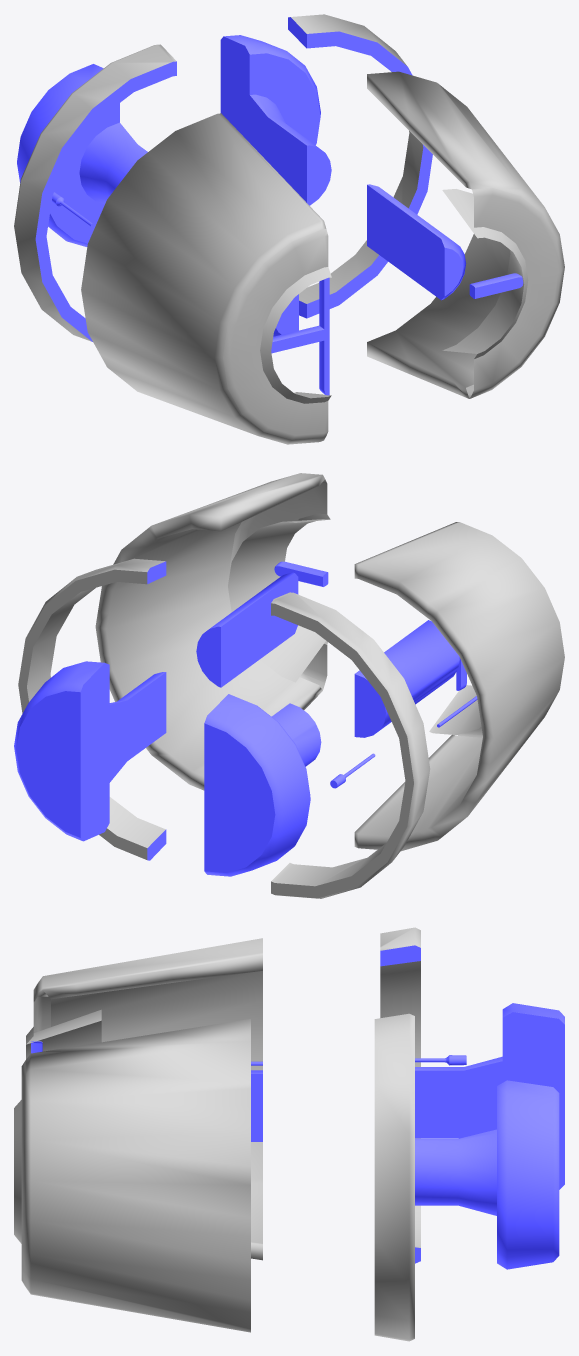
File: item_B.fbx
3 renders of one model, top to bottom at view 1: azimuth 30°, elevation 25°; view 2: azimuth 150°, elevation 25°; view 3: azimuth 270°, elevation 25°, orthographic. The views are drawn at different scales.
Visible parts, largest first — view 1: itemB_pCylinder119, itemB_pCylinder119.001, itemB_pCylinder119.003, itemB_pCylinder119.002; view 2: itemB_pCylinder119.001, itemB_pCylinder119, itemB_pCylinder119.003, itemB_pCylinder119.002; view 3: itemB_pCylinder119.001, itemB_pCylinder119.002, itemB_pCylinder119, itemB_pCylinder119.003.
Part boxes in pixels (x1,y1,x2,y2): itemB_pCylinder119: (81,113,331,444); itemB_pCylinder119.001: (367,71,564,398); itemB_pCylinder119.003: (14,44,176,341); itemB_pCylinder119.002: (220,14,432,318); itemB_pCylinder119.001: (95,473,330,790); itemB_pCylinder119: (354,522,564,851); itemB_pCylinder119.003: (204,592,430,898); itemB_pCylinder119.002: (14,558,166,860); itemB_pCylinder119.001: (14,1019,250,1332); itemB_pCylinder119.002: (374,1013,559,1341); itemB_pCylinder119: (26,938,262,1260); itemB_pCylinder119.003: (380,927,564,1263).
Size of the model in its own units: 262 by 183 by 284.
